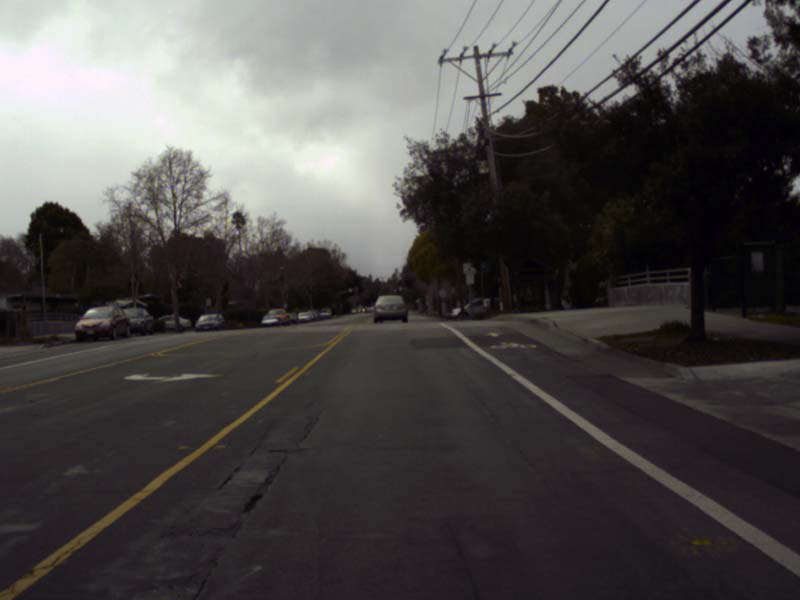Green: (393, 285, 397, 292)
